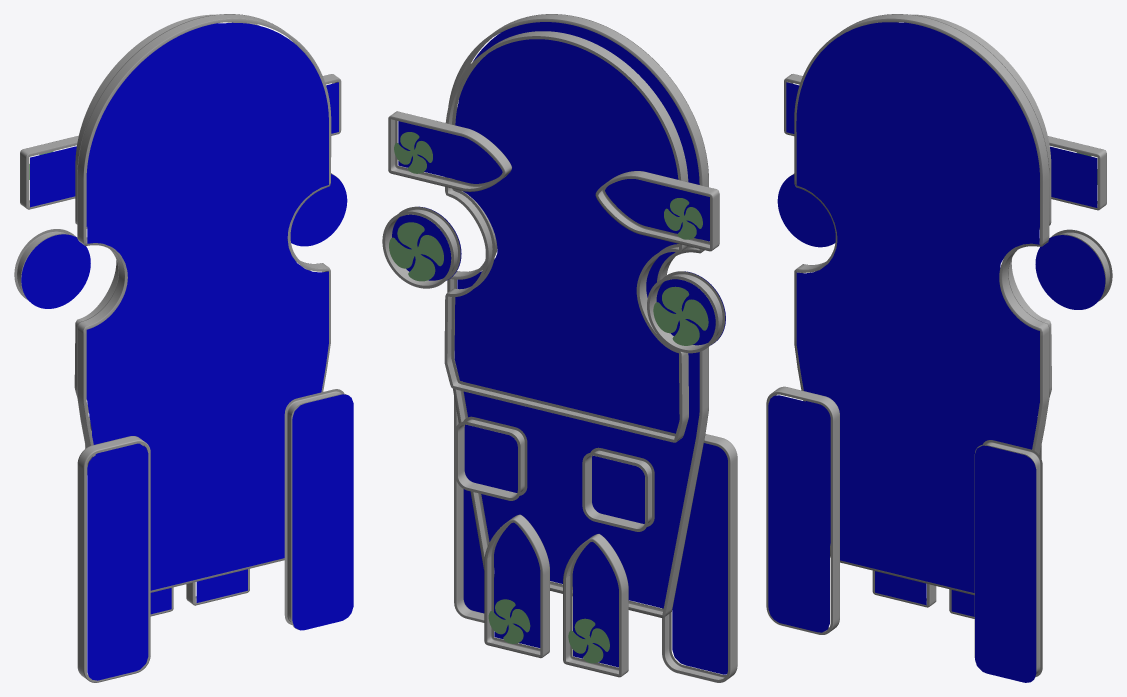
Rendered from dsv.fbx.
The picture shows the model from 3 angles, left to right: view 1: azimuth 30°, elevation 25°; view 2: azimuth 150°, elevation 25°; view 3: azimuth 330°, elevation 25°; orthographic projection. The views are drawn at different scales.
Visible parts, largest first — view 1: base_1, base_6, outline_3, base_5, outline_1, base_4, base_16, outline_2, outline_4, base_7, outline_12, outline_5 (+1 smaller); view 2: base_2, base_1, base_6, outline_4, outline_3, base_7, base_4, outline_1, outline_8, outline_9, base_14, base_15 (+15 smaller); view 3: base_1, base_6, outline_3, base_16, outline_1, base_4, base_5, outline_2, outline_4, base_7, outline_11, outline_6 (+1 smaller).
Boxes of the visible parts, x1=… form: base_1: x1=87, y1=22, x2=328, y2=590; base_6: x1=87, y1=394, x2=353, y2=680; outline_3: x1=77, y1=14, x2=331, y2=592; base_5: x1=21, y1=234, x2=90, y2=308; outline_1: x1=77, y1=436, x2=150, y2=682; base_4: x1=30, y1=82, x2=338, y2=207; base_16: x1=290, y1=174, x2=347, y2=246; outline_2: x1=284, y1=389, x2=346, y2=629; outline_4: x1=74, y1=14, x2=310, y2=413; base_7: x1=150, y1=569, x2=247, y2=614; outline_12: x1=20, y1=135, x2=78, y2=209; outline_5: x1=14, y1=229, x2=76, y2=299; base_2: x1=454, y1=39, x2=679, y2=433; base_1: x1=457, y1=22, x2=699, y2=608; base_6: x1=463, y1=392, x2=727, y2=674; outline_4: x1=444, y1=31, x2=688, y2=442; outline_3: x1=447, y1=14, x2=708, y2=617; base_7: x1=494, y1=522, x2=618, y2=667; base_4: x1=398, y1=121, x2=709, y2=241; outline_1: x1=662, y1=434, x2=737, y2=682; outline_8: x1=563, y1=534, x2=628, y2=677; outline_9: x1=484, y1=514, x2=549, y2=658; base_14: x1=464, y1=416, x2=527, y2=493; base_15: x1=592, y1=447, x2=654, y2=523; base_1: x1=796, y1=22, x2=1039, y2=592; base_6: x1=768, y1=395, x2=1036, y2=682; outline_3: x1=794, y1=14, x2=1049, y2=595; base_16: x1=1035, y1=235, x2=1105, y2=309; outline_1: x1=766, y1=386, x2=839, y2=634; base_4: x1=786, y1=82, x2=1097, y2=207; base_5: x1=777, y1=174, x2=835, y2=247; outline_2: x1=974, y1=440, x2=1042, y2=677; outline_4: x1=877, y1=14, x2=1051, y2=414; base_7: x1=875, y1=571, x2=974, y2=616; outline_11: x1=1048, y1=136, x2=1106, y2=210; outline_6: x1=1050, y1=229, x2=1112, y2=301.
Size of the model in its own units: 11.61 by 21.1 by 2.86.
